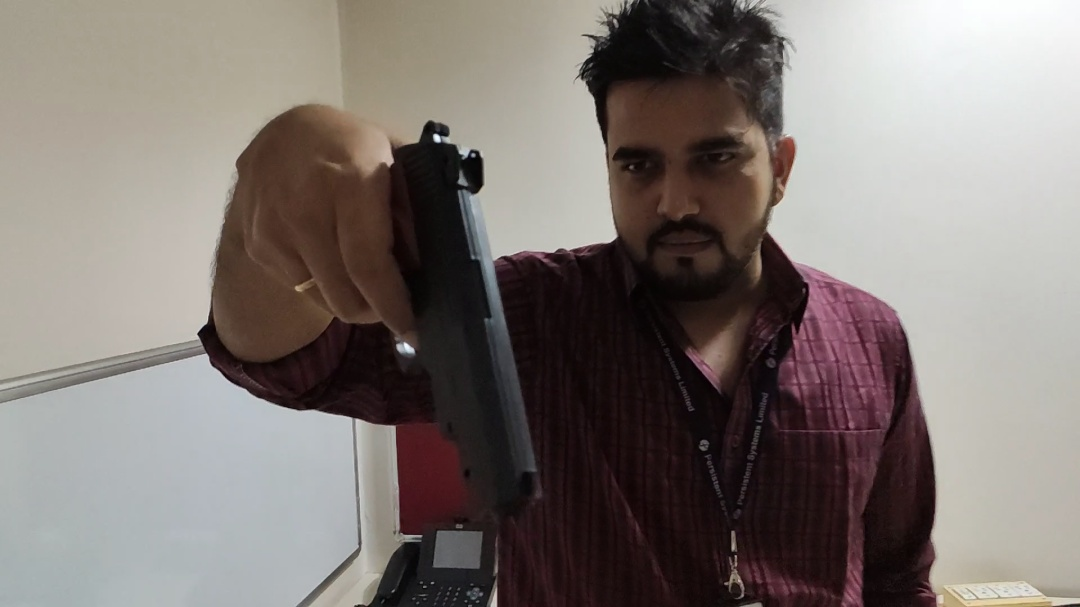gun: (329, 107, 560, 534)
